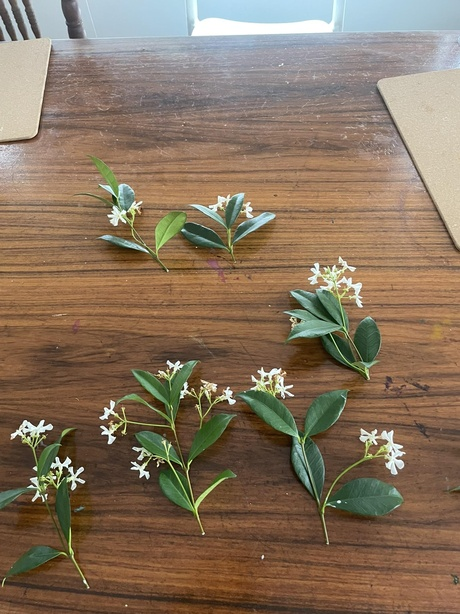leaf: (235, 381, 302, 444), (329, 475, 407, 522), (301, 380, 352, 439), (186, 412, 237, 466), (152, 208, 187, 251)
